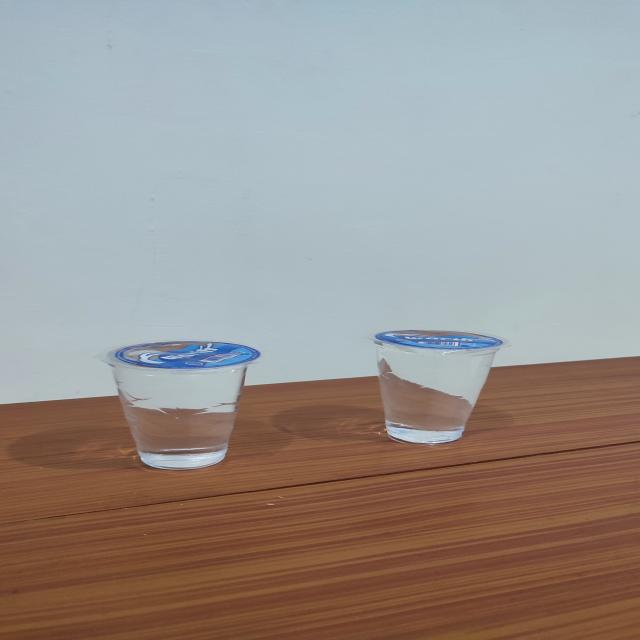air gelas: (95, 337, 271, 474), (364, 322, 511, 448)
